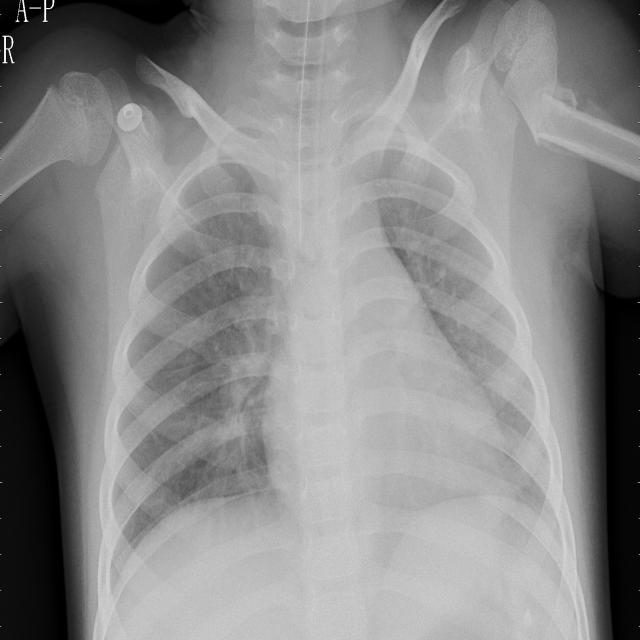low-pneumonia: (460, 283, 549, 480), (204, 304, 276, 468)
